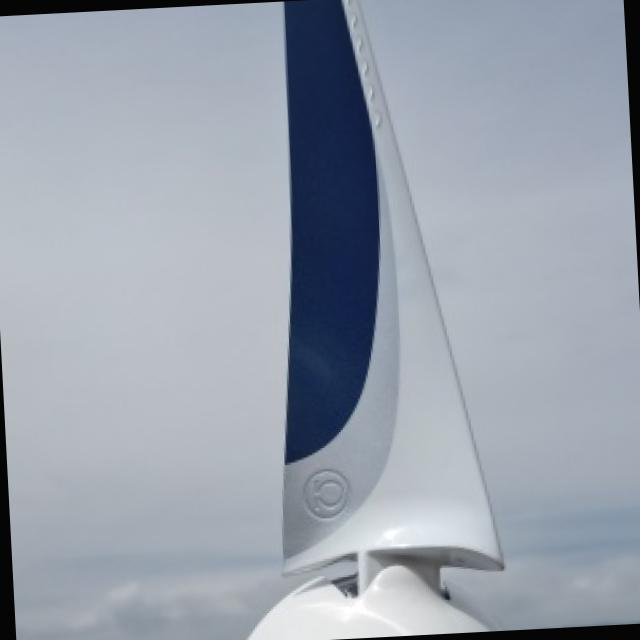healthy: (247, 0, 499, 640)
